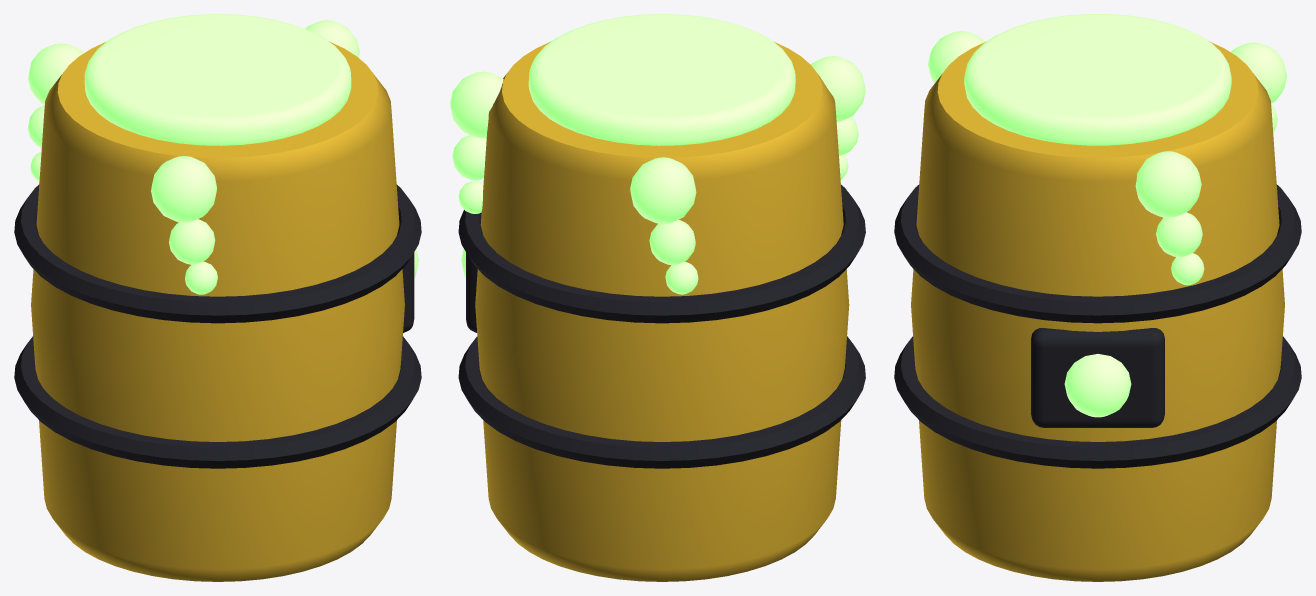
File: toxic_barrel.glb
3 views of the same model, side by side, from view 1: azimuth 30°, elevation 25°; view 2: azimuth 150°, elevation 25°; view 3: azimuth 270°, elevation 25° (orthographic).
Parts seen in each view (by area): view 1: toxic_barrel; view 2: toxic_barrel; view 3: toxic_barrel.
Part boxes in pixels (x1,y1,x2,y2): toxic_barrel: [14, 14, 421, 581]; toxic_barrel: [450, 14, 865, 581]; toxic_barrel: [894, 14, 1301, 581].
Size of the model in its own units: 0.6443 by 0.74 by 0.6096.
Materials: 1 (1 with a texture image).
